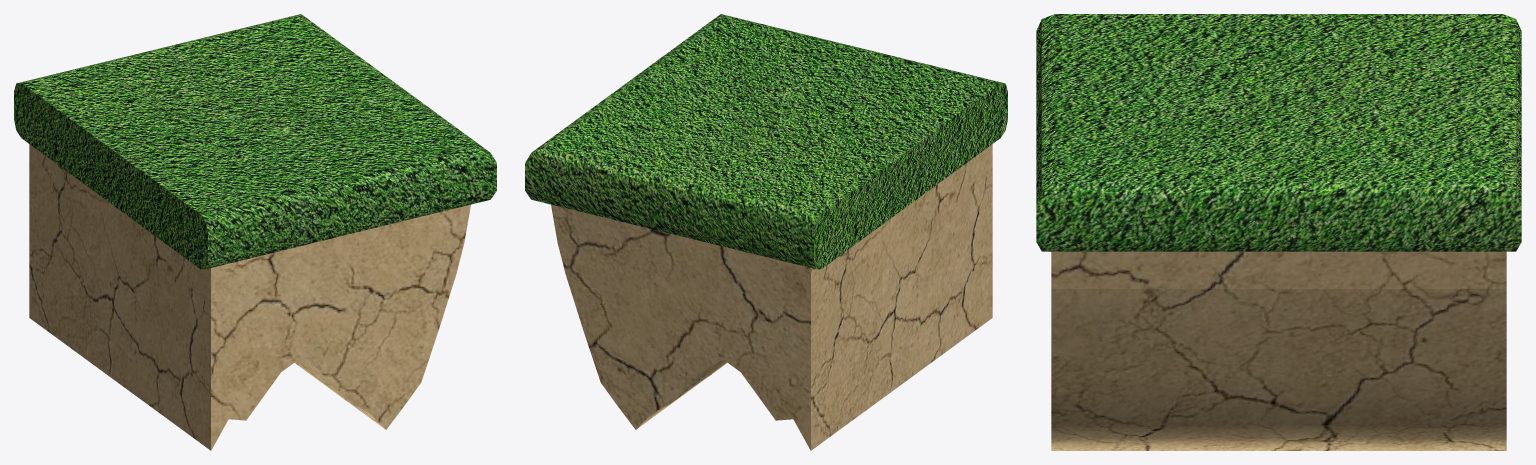
Rendered from plataformaFinalPicos.fbx.
The picture shows the model from 3 angles, left to right: view 1: azimuth 30°, elevation 25°; view 2: azimuth 150°, elevation 25°; view 3: azimuth 270°, elevation 25°; orthographic projection. The views are drawn at different scales.
Parts seen in each view (by area): view 1: tapaPlataformaPicosFinal, plataformaPicosFinal; view 2: tapaPlataformaPicosFinal, plataformaPicosFinal; view 3: tapaPlataformaPicosFinal, plataformaPicosFinal.
Part boxes in pixels (x1,y1,x2,y2): tapaPlataformaPicosFinal: (14,14,496,269); plataformaPicosFinal: (29,144,470,450); tapaPlataformaPicosFinal: (525,14,1007,269); plataformaPicosFinal: (551,144,992,450); tapaPlataformaPicosFinal: (1036,14,1521,251); plataformaPicosFinal: (1051,251,1506,450).
Size of the model in its own units: 2.75 by 2.36 by 3.2.
